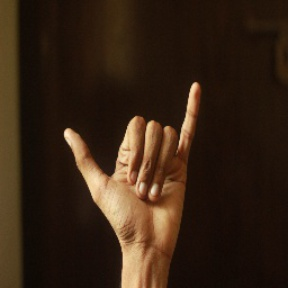J: (58, 73, 211, 245)
